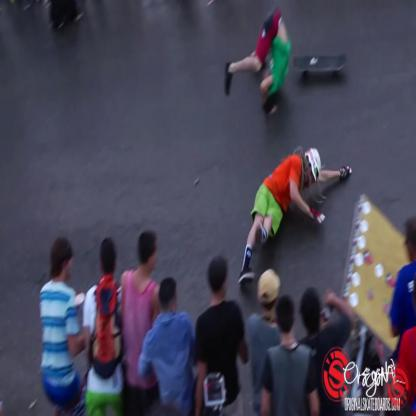Fall_Down: (239, 141, 356, 290)
